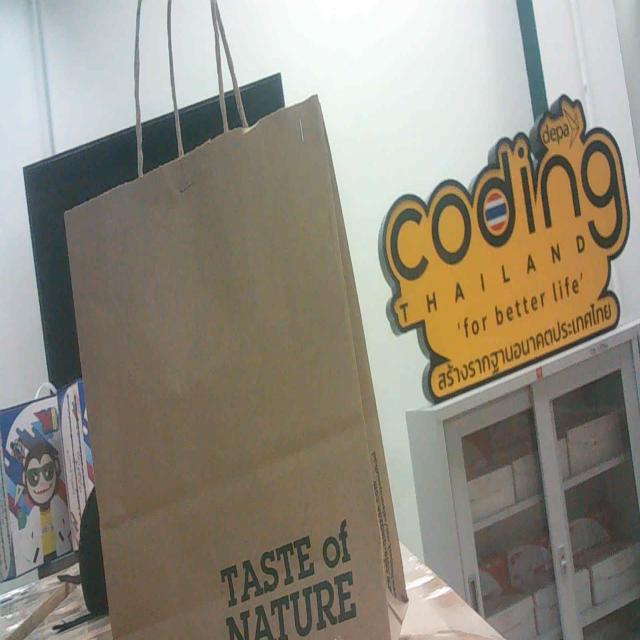bag: (45, 123, 408, 640)
